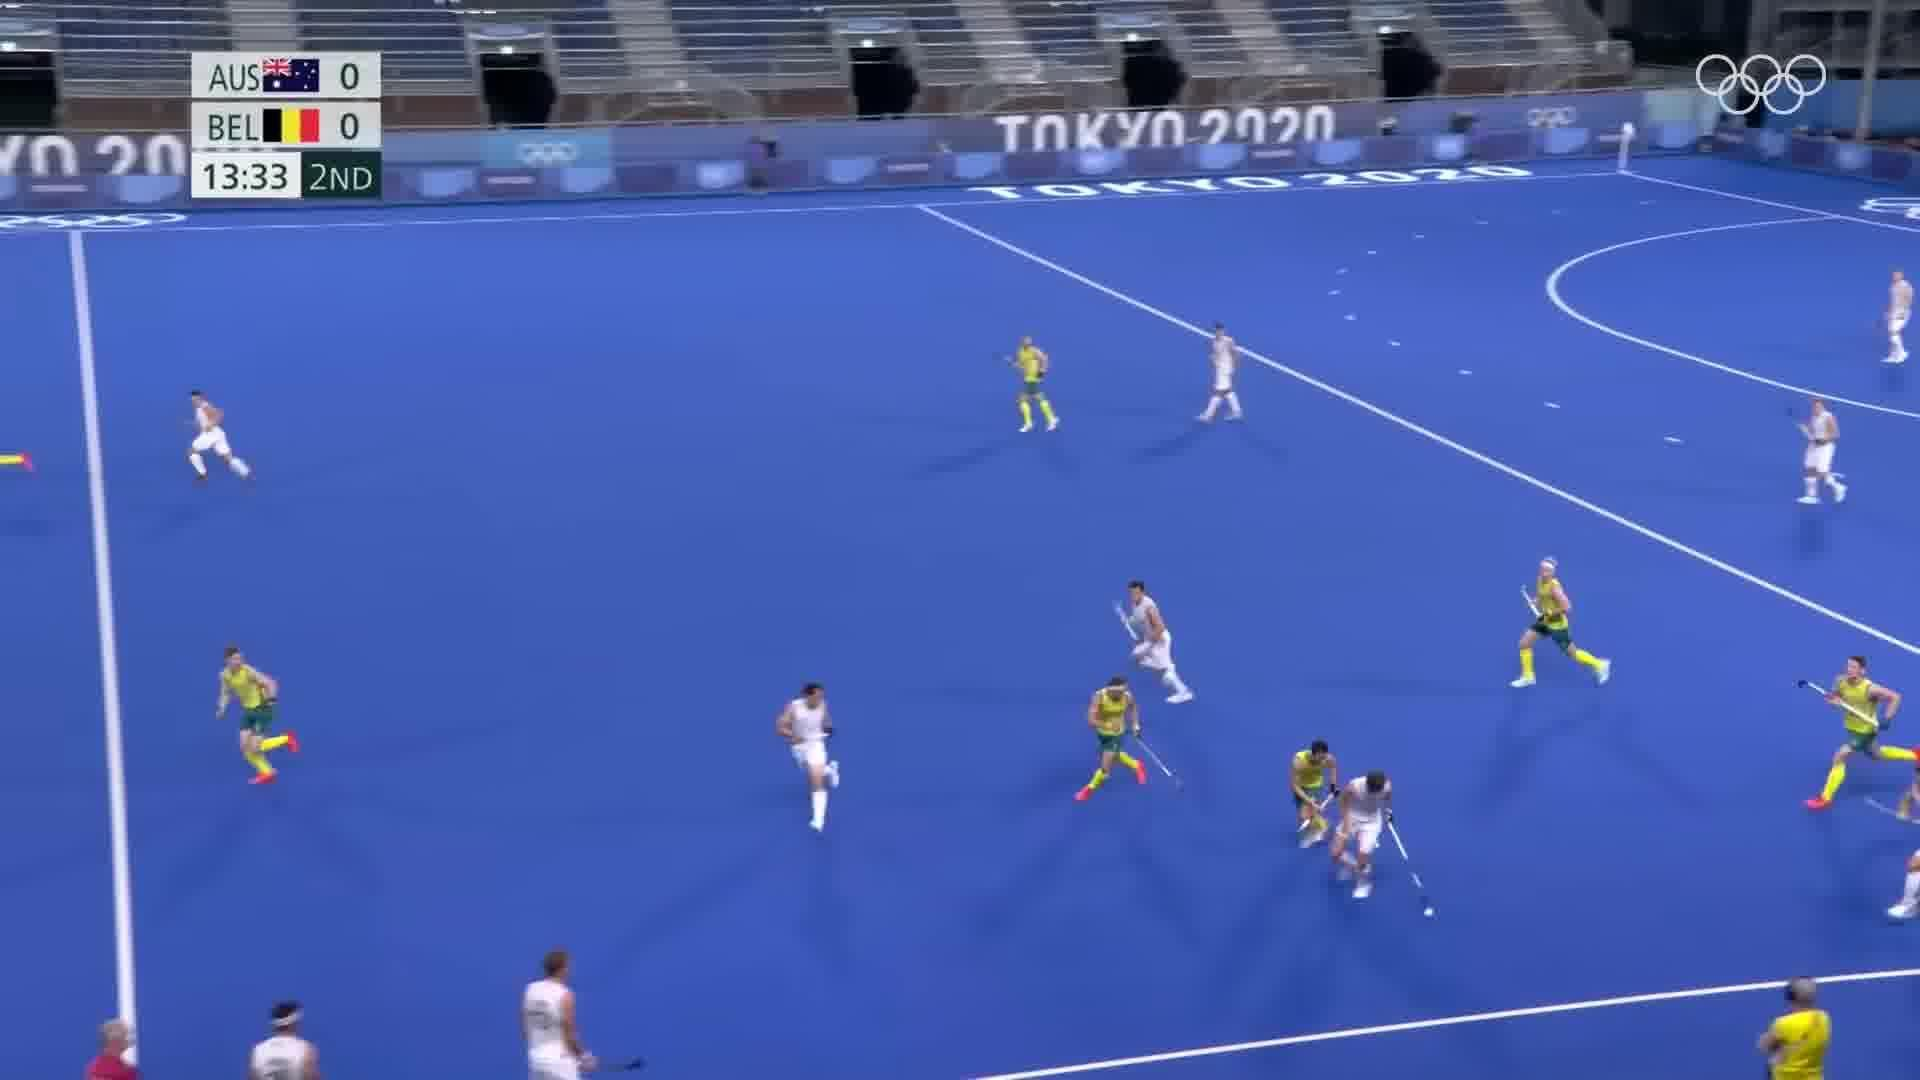ball: (1418, 898, 1441, 927)
